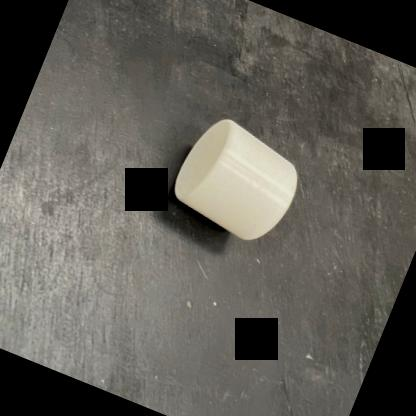white cylinder: (160, 106, 313, 253)
